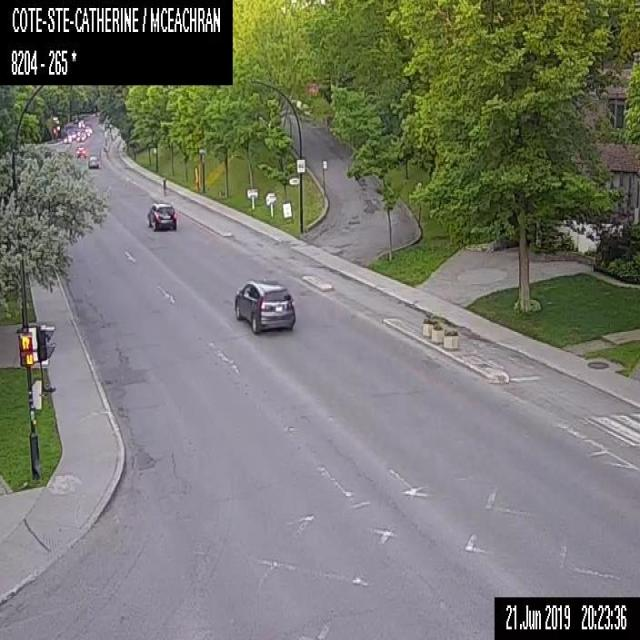vehicle: (234, 276, 294, 333), (147, 201, 176, 229), (88, 154, 99, 168), (76, 146, 86, 157), (63, 134, 71, 142), (68, 130, 76, 138), (85, 124, 92, 132), (76, 133, 83, 140), (80, 130, 86, 137), (74, 128, 80, 134), (84, 129, 90, 135)
